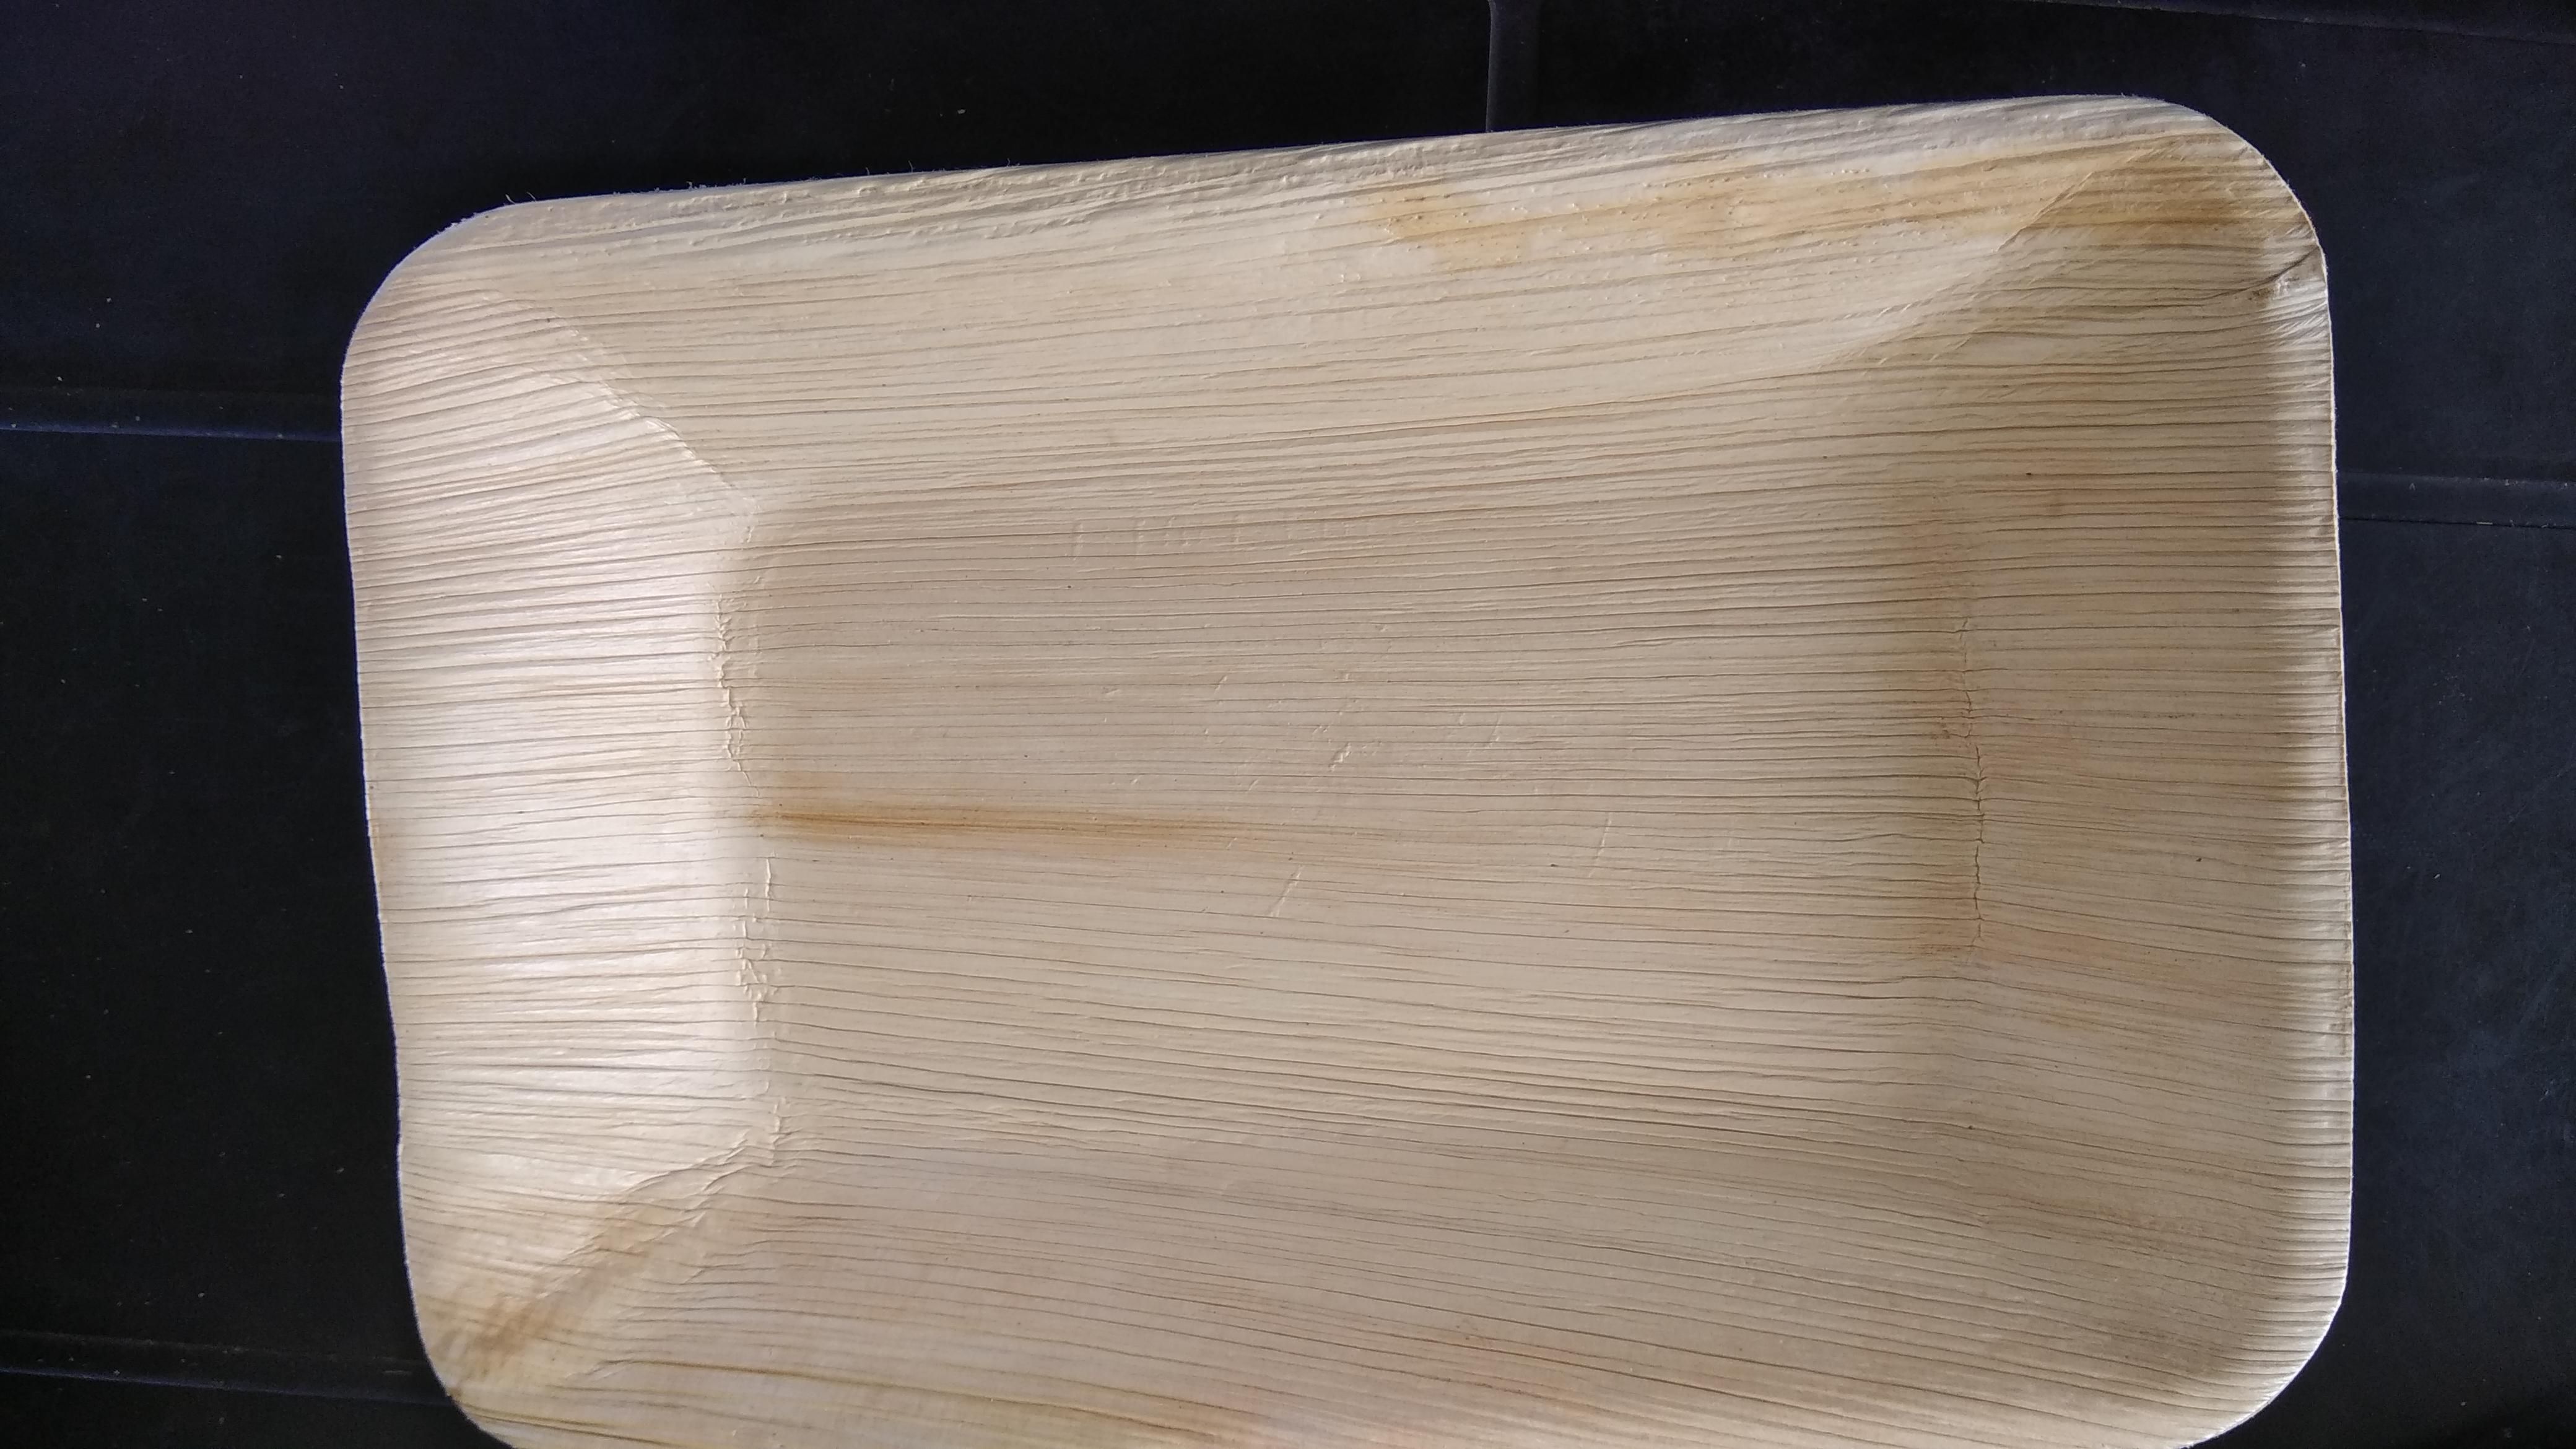areca plate: (331, 152, 2365, 1437)
